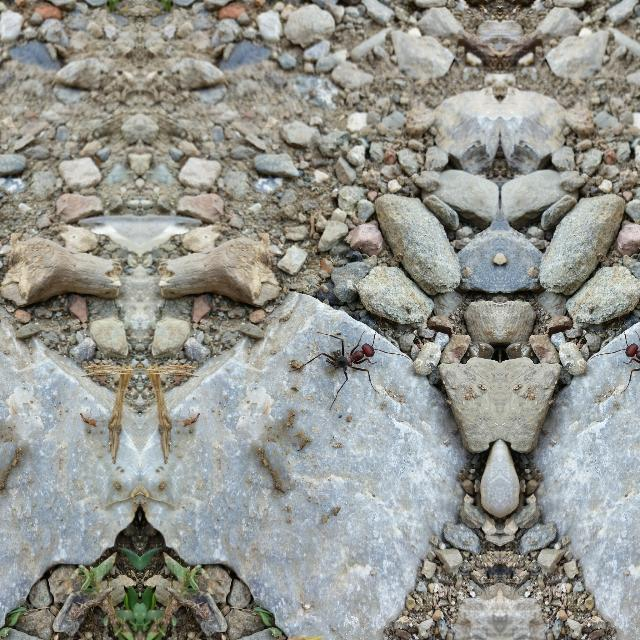Cataglyphis: (316, 319, 382, 397), (618, 319, 640, 397)
